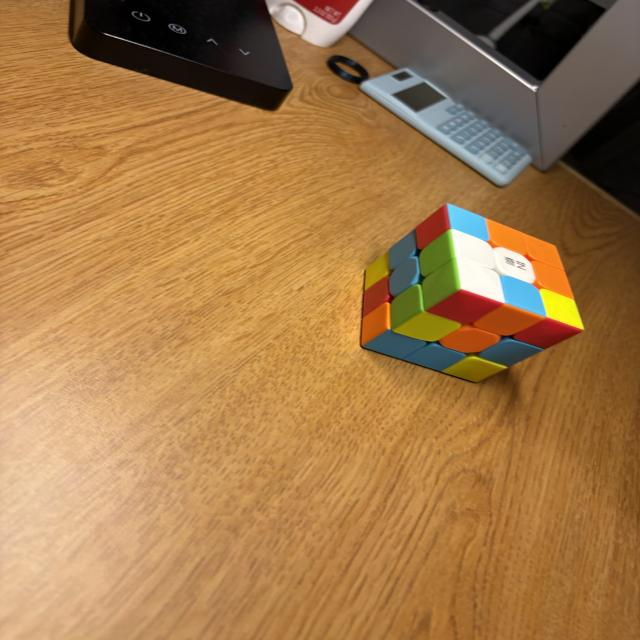Rubiks Cube: (360, 206, 583, 385)
